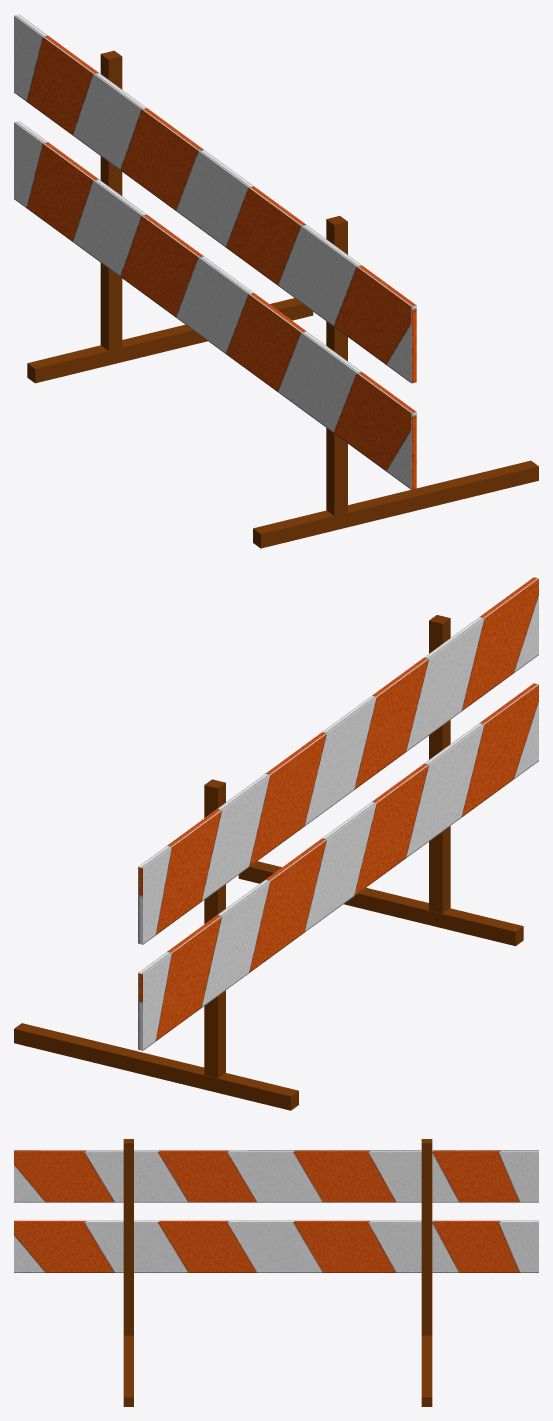
File: RoadBarrier_4.fbx
3 renders of one model, top to bottom at view 1: azimuth 30°, elevation 25°; view 2: azimuth 150°, elevation 25°; view 3: azimuth 270°, elevation 25°, orthographic. The views are drawn at different scales.
Parts seen in each view (by area): view 1: Road_Barrier4; view 2: Road_Barrier4; view 3: Road_Barrier4.
Part boxes in pixels (x1,y1,x2,y2): Road_Barrier4: [14, 14, 538, 548]; Road_Barrier4: [14, 577, 538, 1110]; Road_Barrier4: [14, 1139, 538, 1406].
Bounding box in the file's own units: 3.8 × 3.99 × 9.39.
Materials: 1 (1 with a texture image).
